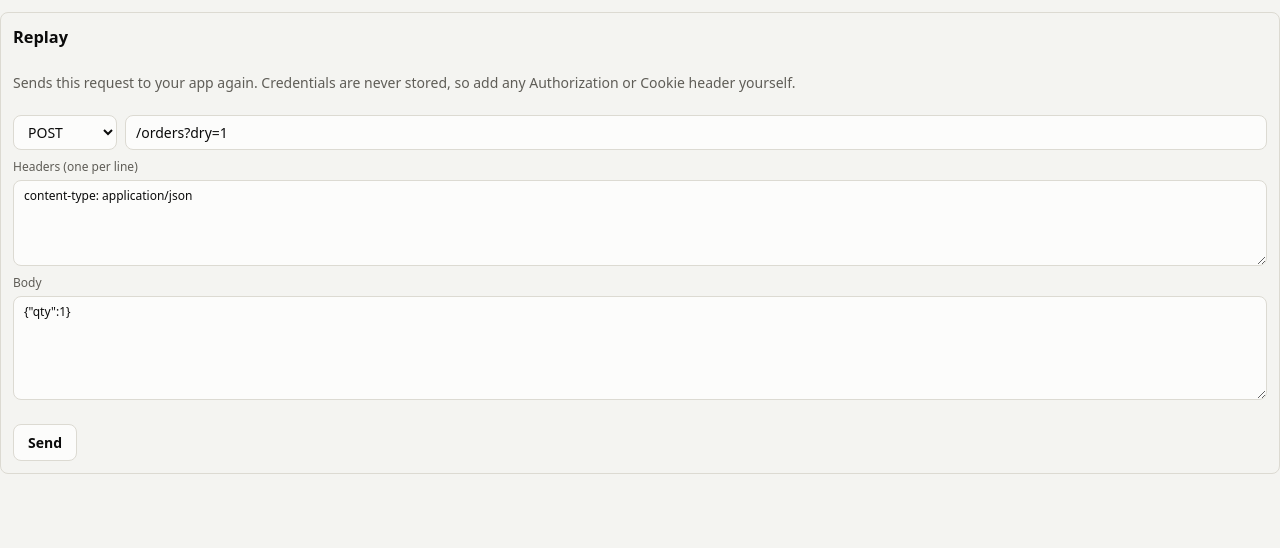
Scenario: ReplayPanel › shows the server error when the replay is refused
The width and height of the screenshot is (1280, 548).
Click the button "Send": (45, 442) [13,424,77,461]
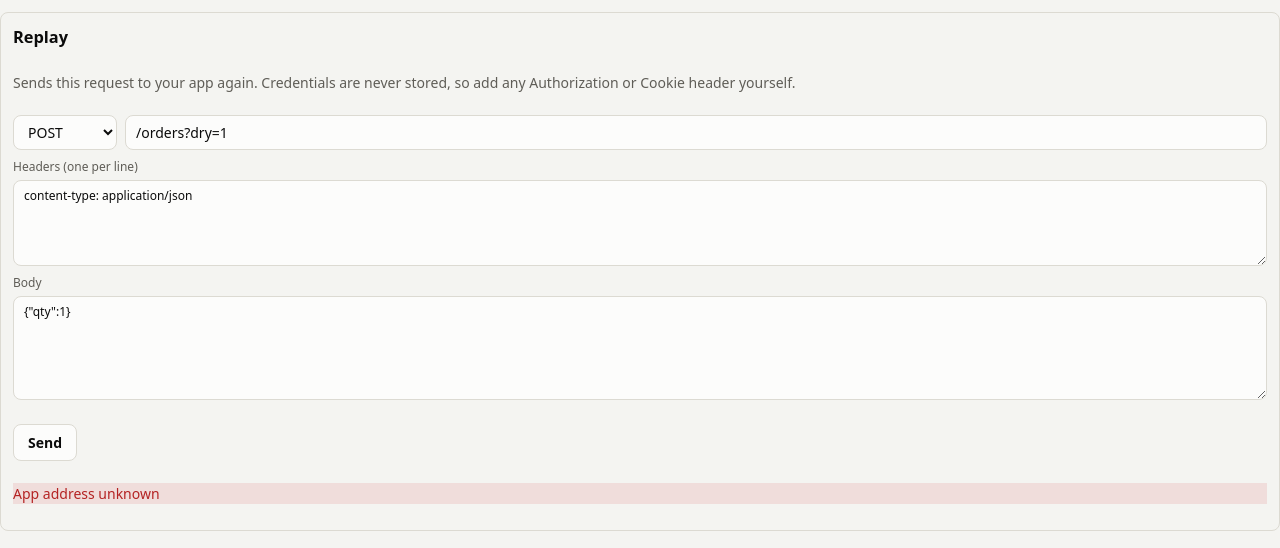
Expected: the message reads "App address unknown", [13,484,160,503]
